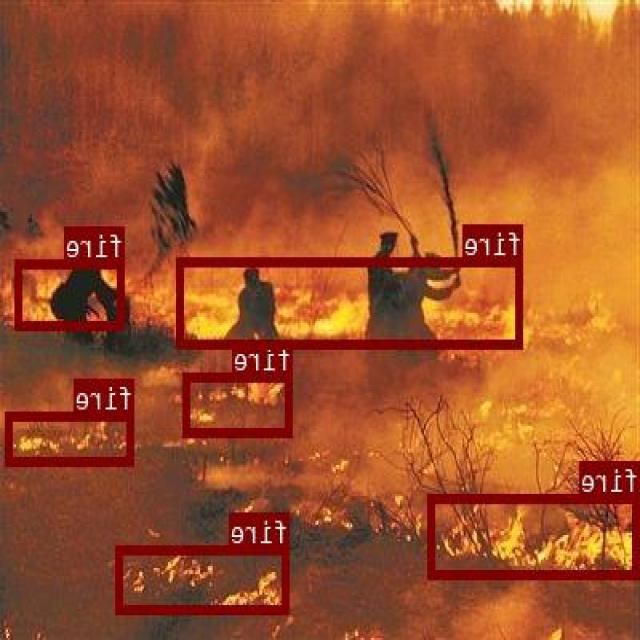fire: (178, 257, 524, 346), (429, 493, 640, 577), (118, 544, 290, 612), (17, 258, 125, 328), (185, 372, 294, 435), (7, 412, 135, 463)
